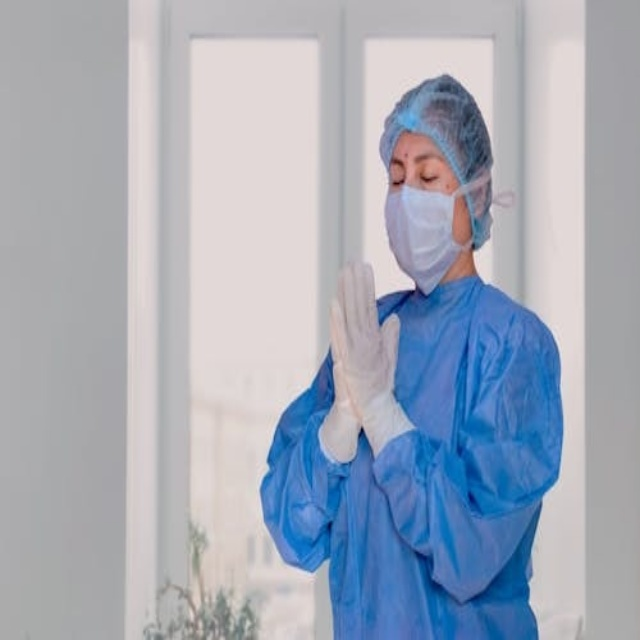Guantes: (327, 259, 410, 460)
Mascara: (385, 178, 481, 295)
Sin_gafas: (389, 150, 448, 194)
